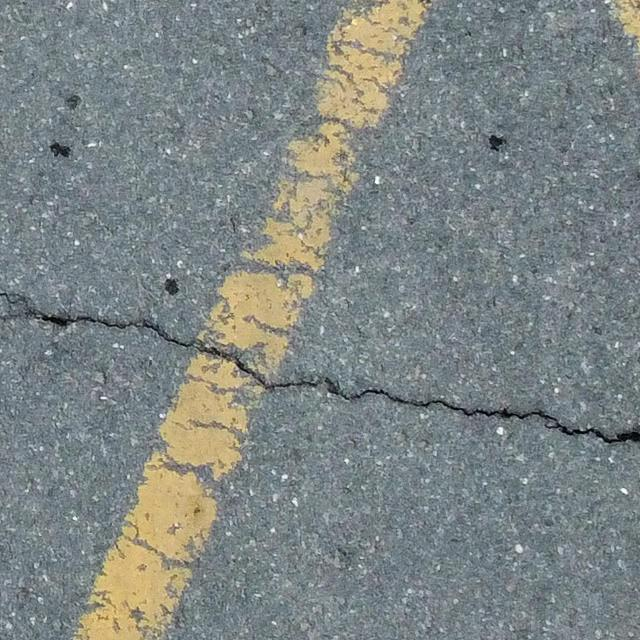TransverseCrack: (2, 289, 640, 444)
